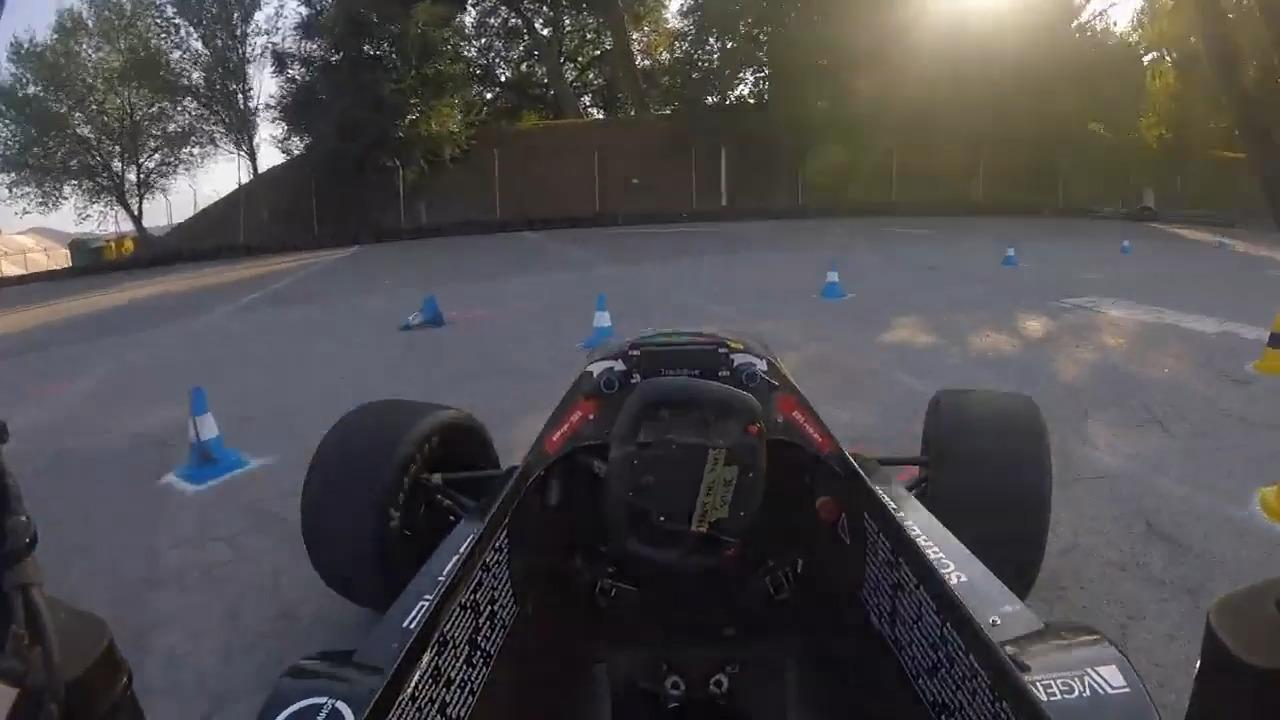blue_cone: (156, 376, 263, 490), (399, 276, 448, 343), (582, 287, 623, 354), (806, 249, 851, 310), (999, 238, 1027, 271), (1119, 235, 1132, 255)
yellow_cone: (1249, 310, 1280, 379), (1251, 470, 1280, 529)
